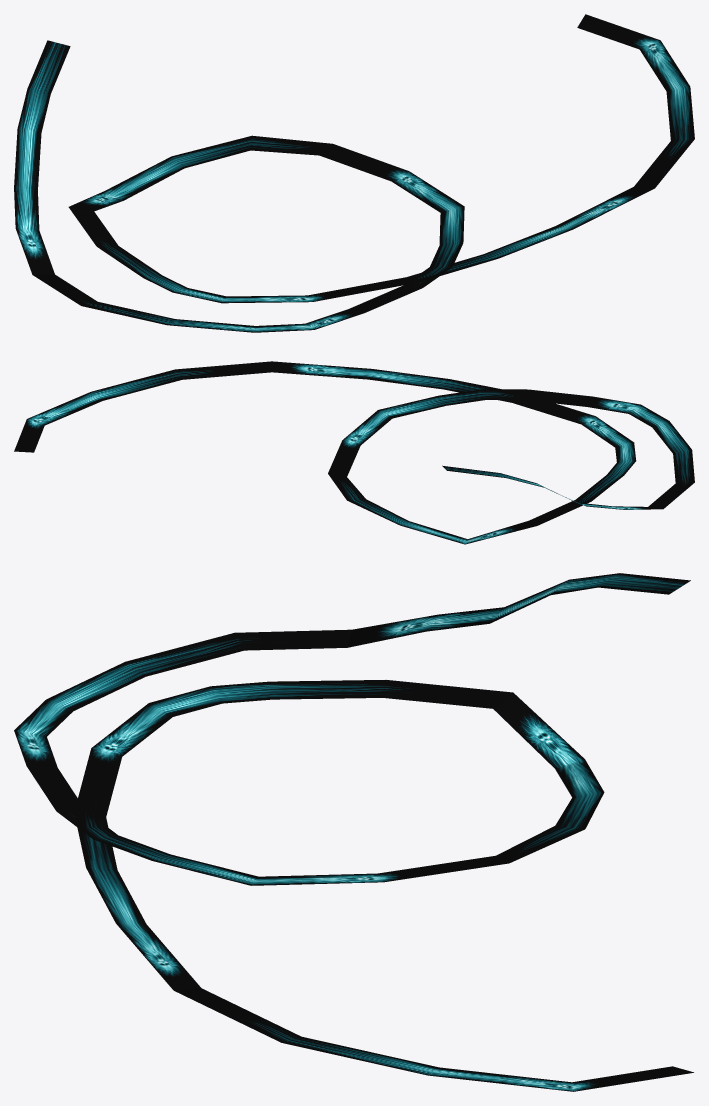
The picture shows the model from 3 angles, top to bottom: view 1: azimuth 30°, elevation 25°; view 2: azimuth 150°, elevation 25°; view 3: azimuth 270°, elevation 25°; orthographic projection. The views are drawn at different scales.
Parts seen in each view (by area): view 1: 10107_fx02; view 2: 10107_fx02; view 3: 10107_fx02.
Part boxes in pixels (x1,y1,x2,y2): 10107_fx02: (14, 14, 694, 332); 10107_fx02: (14, 361, 694, 544); 10107_fx02: (14, 573, 693, 1091).
Size of the model in its own units: 4180 by 724 by 2603.
